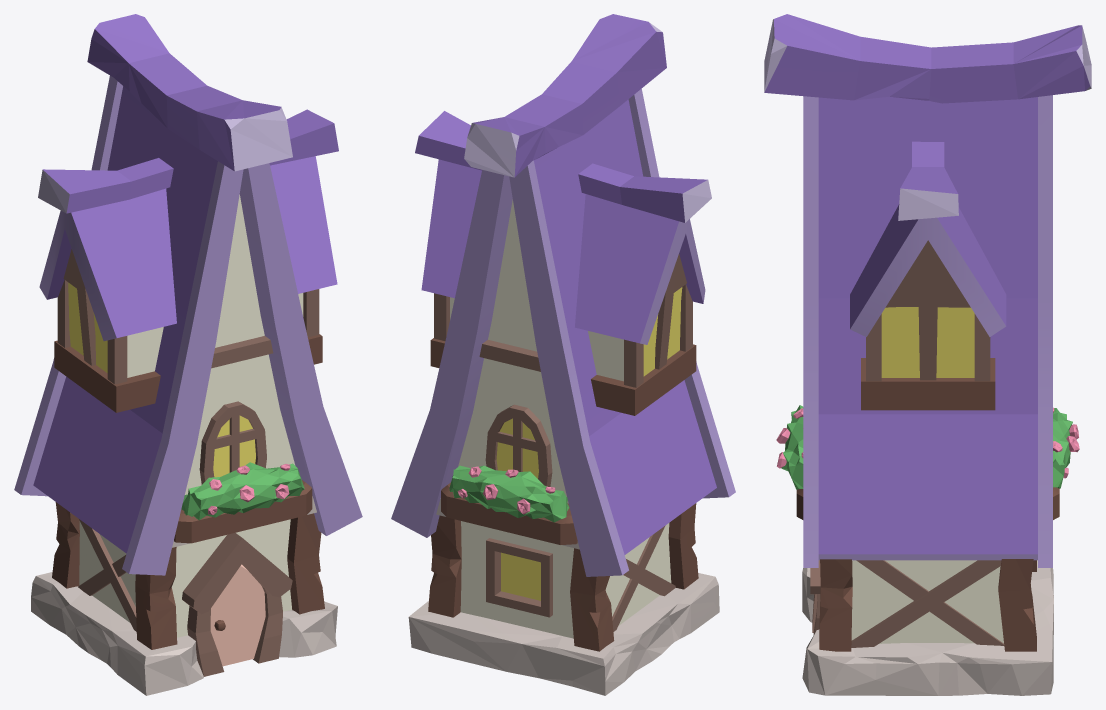
File: building_009.fbx
3 views of the same model, side by side, from view 1: azimuth 30°, elevation 25°; view 2: azimuth 150°, elevation 25°; view 3: azimuth 270°, elevation 25° (orthographic). The views are drawn at different scales.
Visible parts, largest first — view 1: building.009; view 2: building.009; view 3: building.009.
Part boxes in pixels (<box>): building.009: <box>14,14,362,695</box>; building.009: <box>391,14,735,695</box>; building.009: <box>764,14,1091,695</box>.
Bounding box in the file's own units: 816 × 1629 × 779.
Materials: 1 (1 with a texture image).
